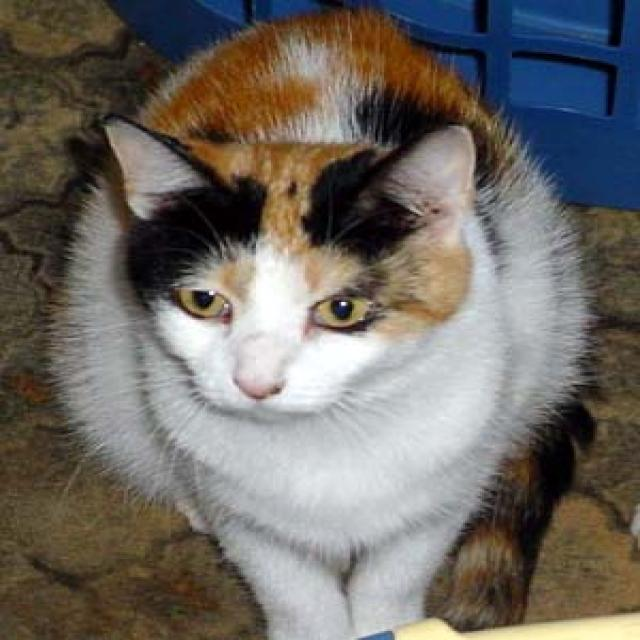Cats: (41, 4, 604, 638)
